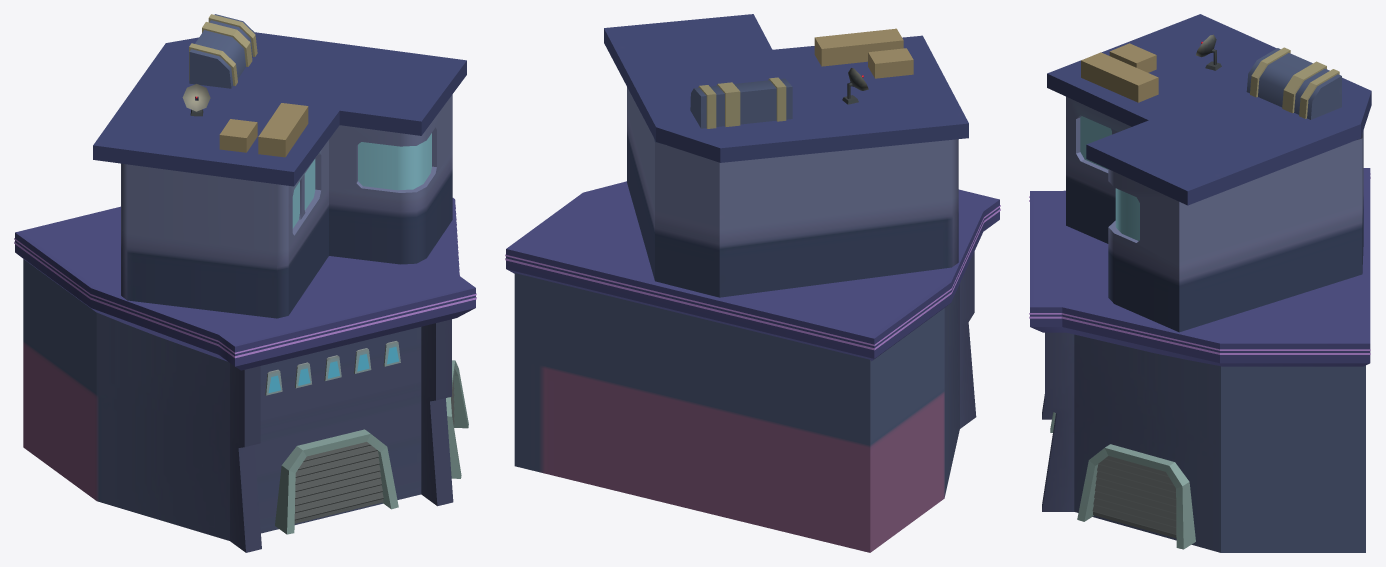
File: SouthWest_House_04.fbx
3 renders of one model, left to right at view 1: azimuth 30°, elevation 25°; view 2: azimuth 150°, elevation 25°; view 3: azimuth 270°, elevation 25°, orthographic. The views are drawn at different scales.
Parts seen in each view (by area): view 1: SouthWest_House_04; view 2: SouthWest_House_04; view 3: SouthWest_House_04.
Boxes of the visible parts, x1,y1,x2,y2 form: SouthWest_House_04: (14,14,476,552); SouthWest_House_04: (505,14,1000,552); SouthWest_House_04: (1029,14,1371,552).
Bounding box in the file's own units: 29.81 × 30.63 × 23.99.
Materials: 2 (2 with a texture image).
